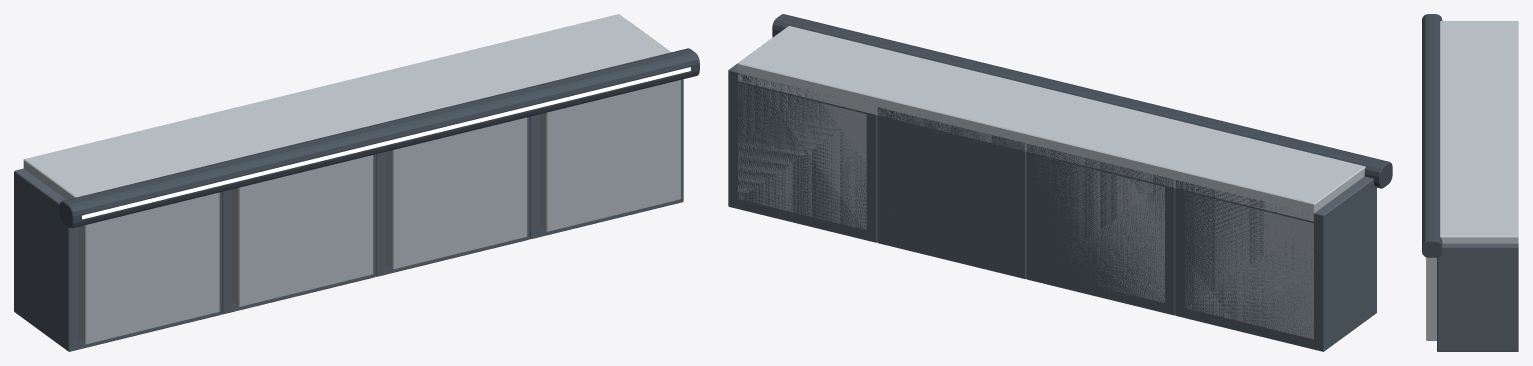
The model's file is Terrain_TopRun4LR.gltf.
3 renders of one model, left to right at view 1: azimuth 30°, elevation 25°; view 2: azimuth 150°, elevation 25°; view 3: azimuth 270°, elevation 25°, orthographic. The views are drawn at different scales.
Visible parts, largest first — view 1: Terrain_TopRun4LR_baked; view 2: Terrain_TopRun4LR_baked; view 3: Terrain_TopRun4LR_baked.
Boxes of the visible parts, x1=… form: Terrain_TopRun4LR_baked: x1=14, y1=14, x2=699, y2=351; Terrain_TopRun4LR_baked: x1=728, y1=14, x2=1392, y2=351; Terrain_TopRun4LR_baked: x1=1421, y1=14, x2=1518, y2=351.
Size of the model in its own units: 4.08 by 0.9495 by 0.74.
